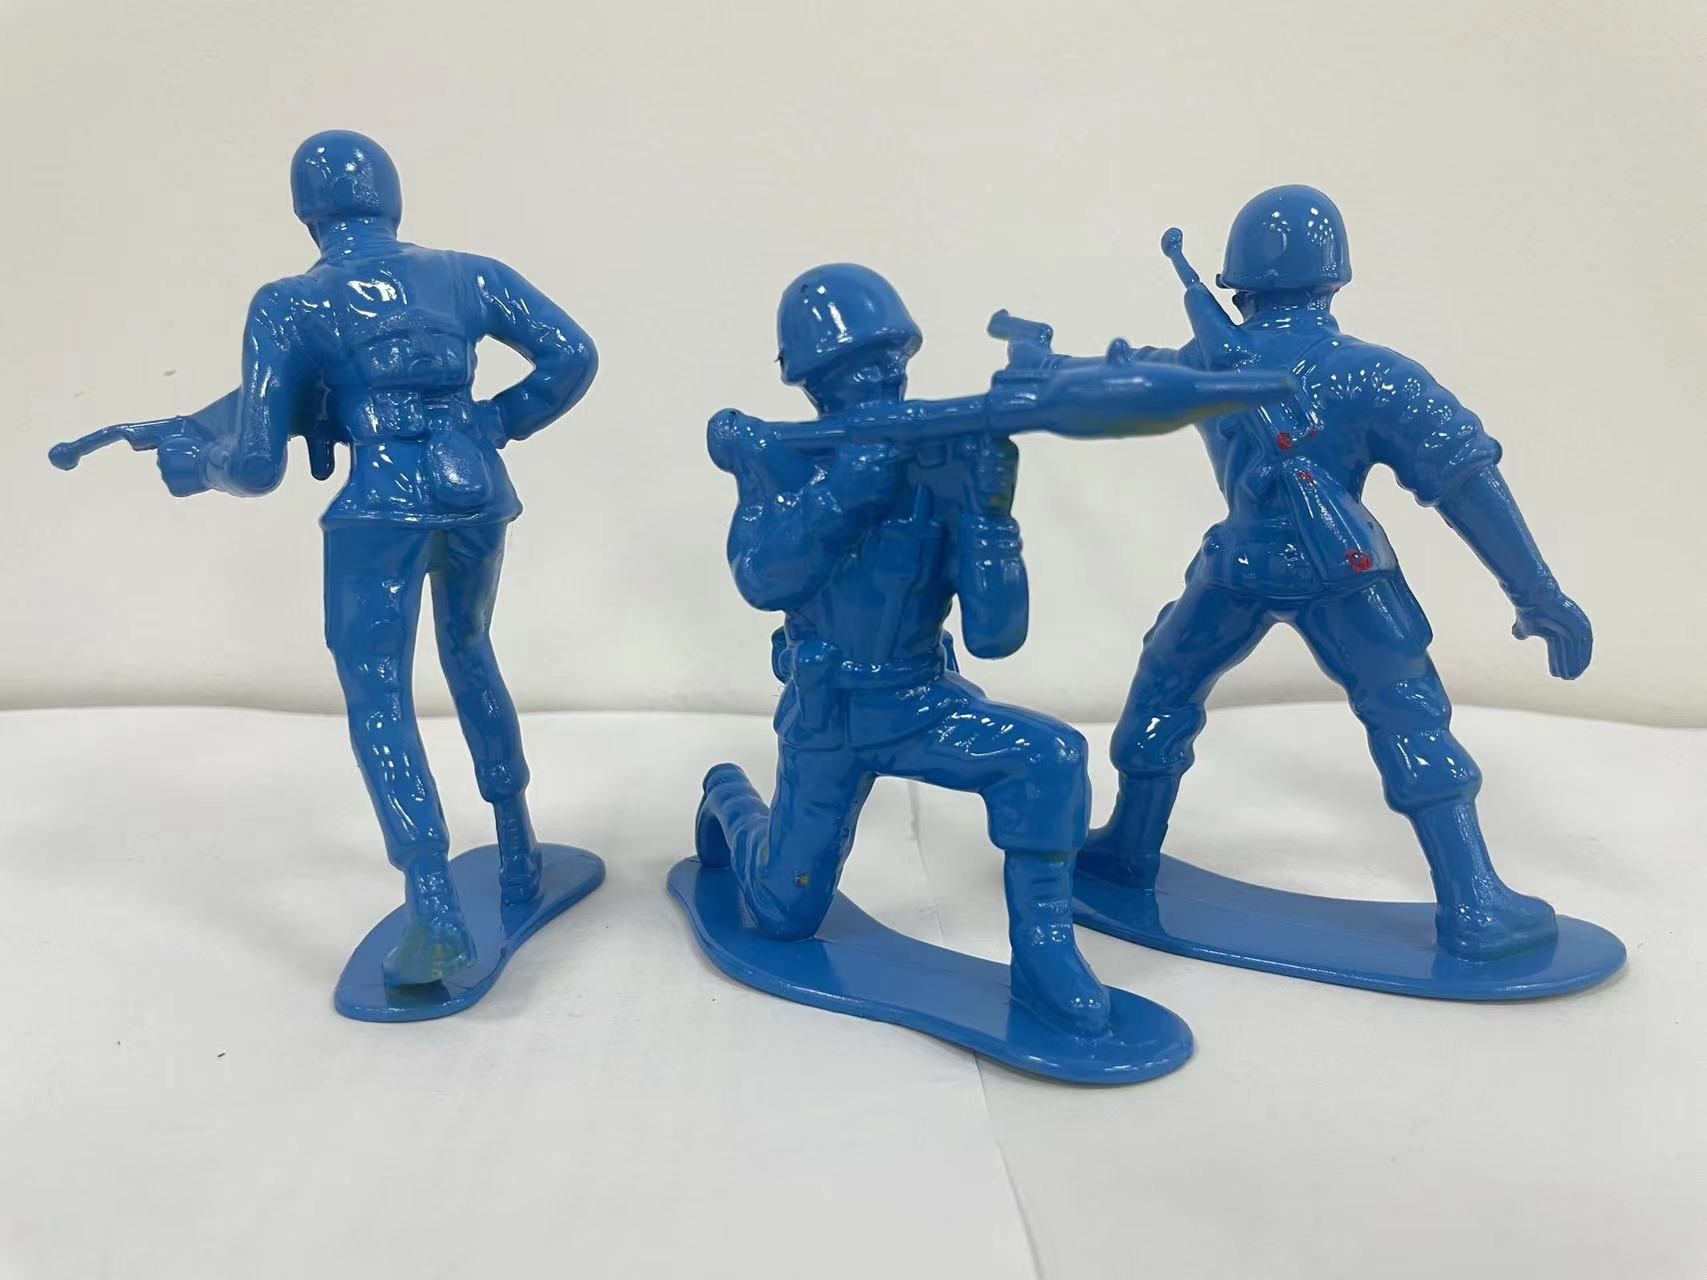blue: (1026, 113, 1661, 1008), (40, 118, 637, 1062), (661, 226, 1116, 1137)
